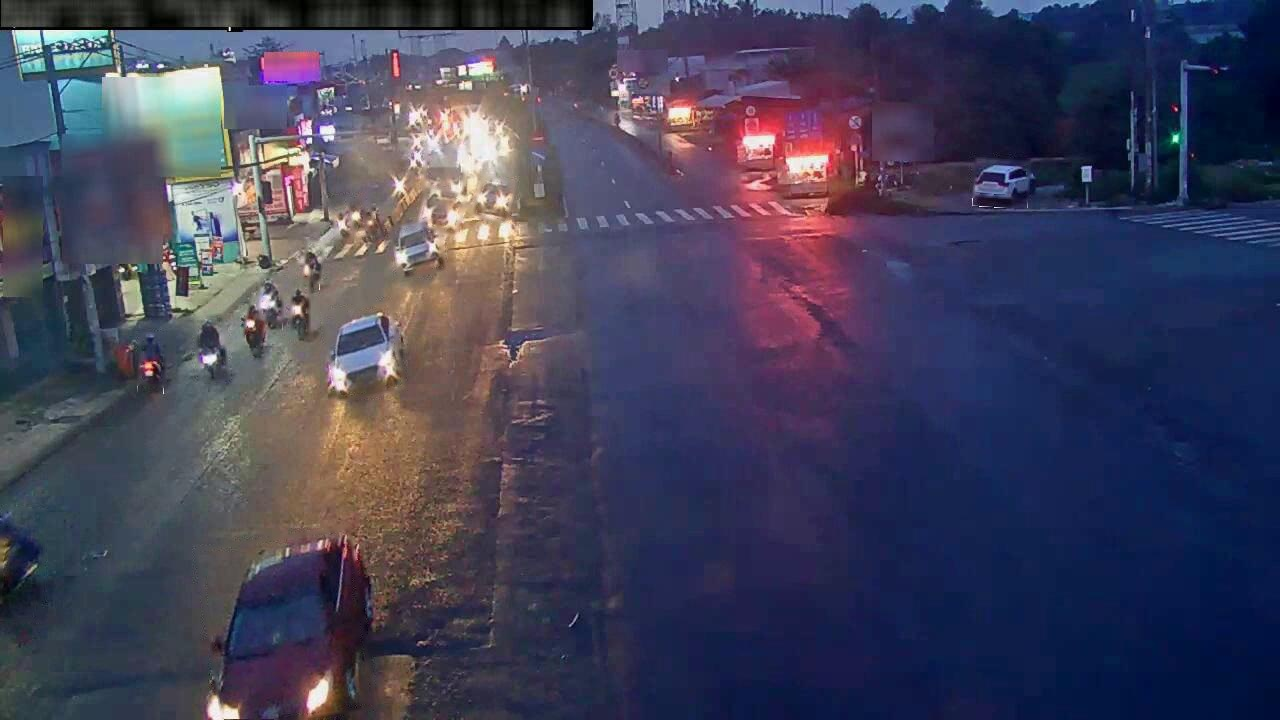Car: (205, 534, 373, 719), (327, 313, 405, 395), (0, 513, 41, 597), (971, 165, 1035, 206), (421, 190, 462, 229), (475, 184, 514, 217)
Motorcyclist: (136, 334, 166, 393), (198, 322, 227, 378), (242, 304, 266, 357), (258, 278, 282, 328), (290, 289, 310, 340), (332, 201, 353, 238), (304, 248, 321, 292), (346, 204, 367, 236), (364, 202, 381, 231)
Traffic light: (1169, 102, 1183, 145)
Truck: (394, 222, 443, 274), (424, 146, 462, 198)
